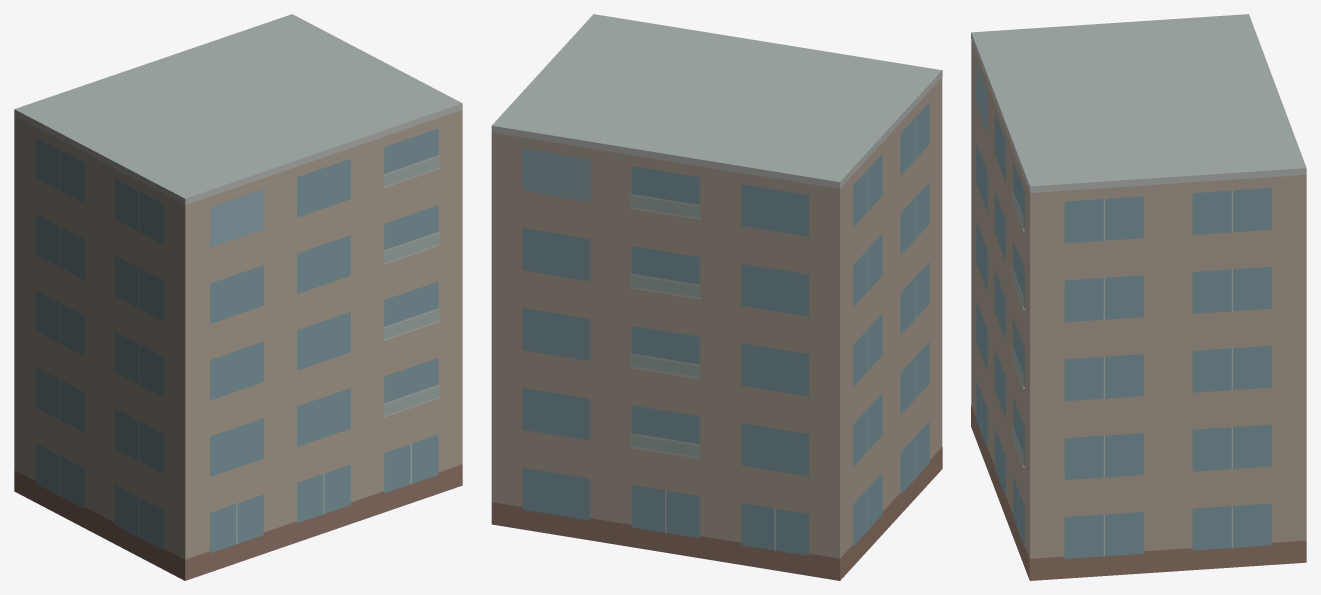
Rendered from survey-upis-33036544.glb.
3 views of the same model, side by side, from view 1: azimuth 30°, elevation 25°; view 2: azimuth 150°, elevation 25°; view 3: azimuth 270°, elevation 25° (orthographic). The views are drawn at different scales.
Parts seen in each view (by area): view 1: survey-upis-33036544.tmp; view 2: survey-upis-33036544.tmp; view 3: survey-upis-33036544.tmp.
Boxes of the visible parts, bbox=[...] form: survey-upis-33036544.tmp: bbox=[14, 14, 462, 580]; survey-upis-33036544.tmp: bbox=[491, 14, 942, 580]; survey-upis-33036544.tmp: bbox=[971, 14, 1306, 580].
Size of the model in its own units: 13.51 by 14.4 by 11.11.
